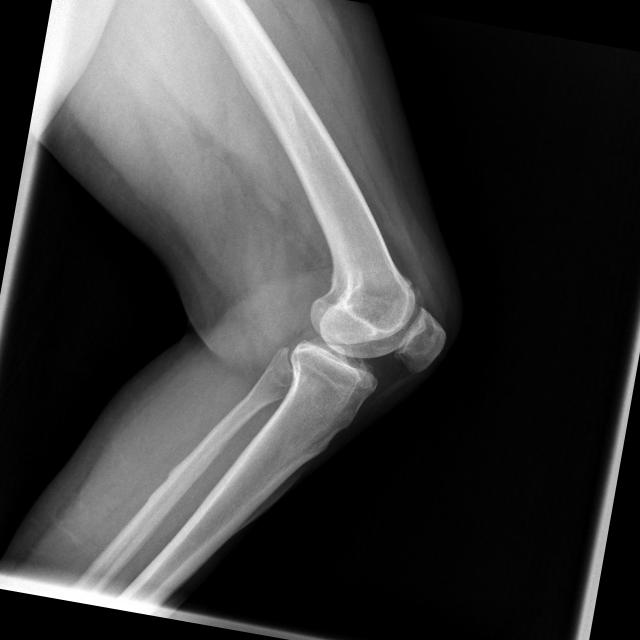Knee: (280, 274, 457, 440)
